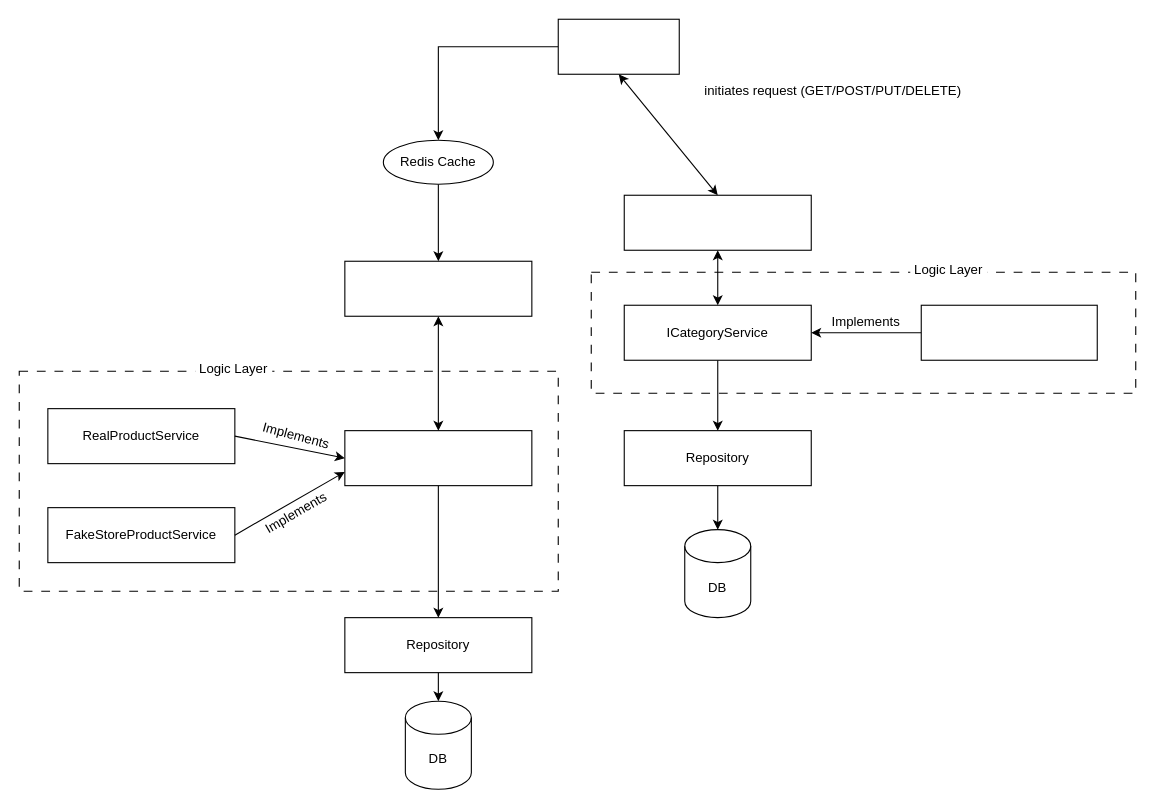
The diagram is 1155 pixels wide and 809 high, and some of its shapes have lost their labels. Here are the shapes that lost their labels. From the top down, the centre of each, then its label:
(x=618, y=46): Client / Frontend
(x=717, y=222): CategoryController
(x=438, y=288): ProductController
(x=1008, y=332): CategoryService
(x=438, y=458): IProductService
